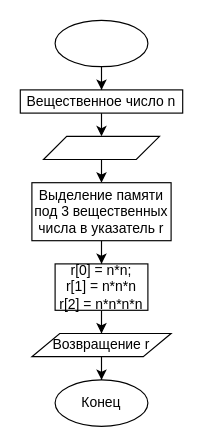
Some shapes in this 203 by 447 pixel diagram are drawn without their labels. Here are the shapes that lost their labels. From the top down, the centre of each, then its label:
(101,43): Начало
(101,147): Получение n
